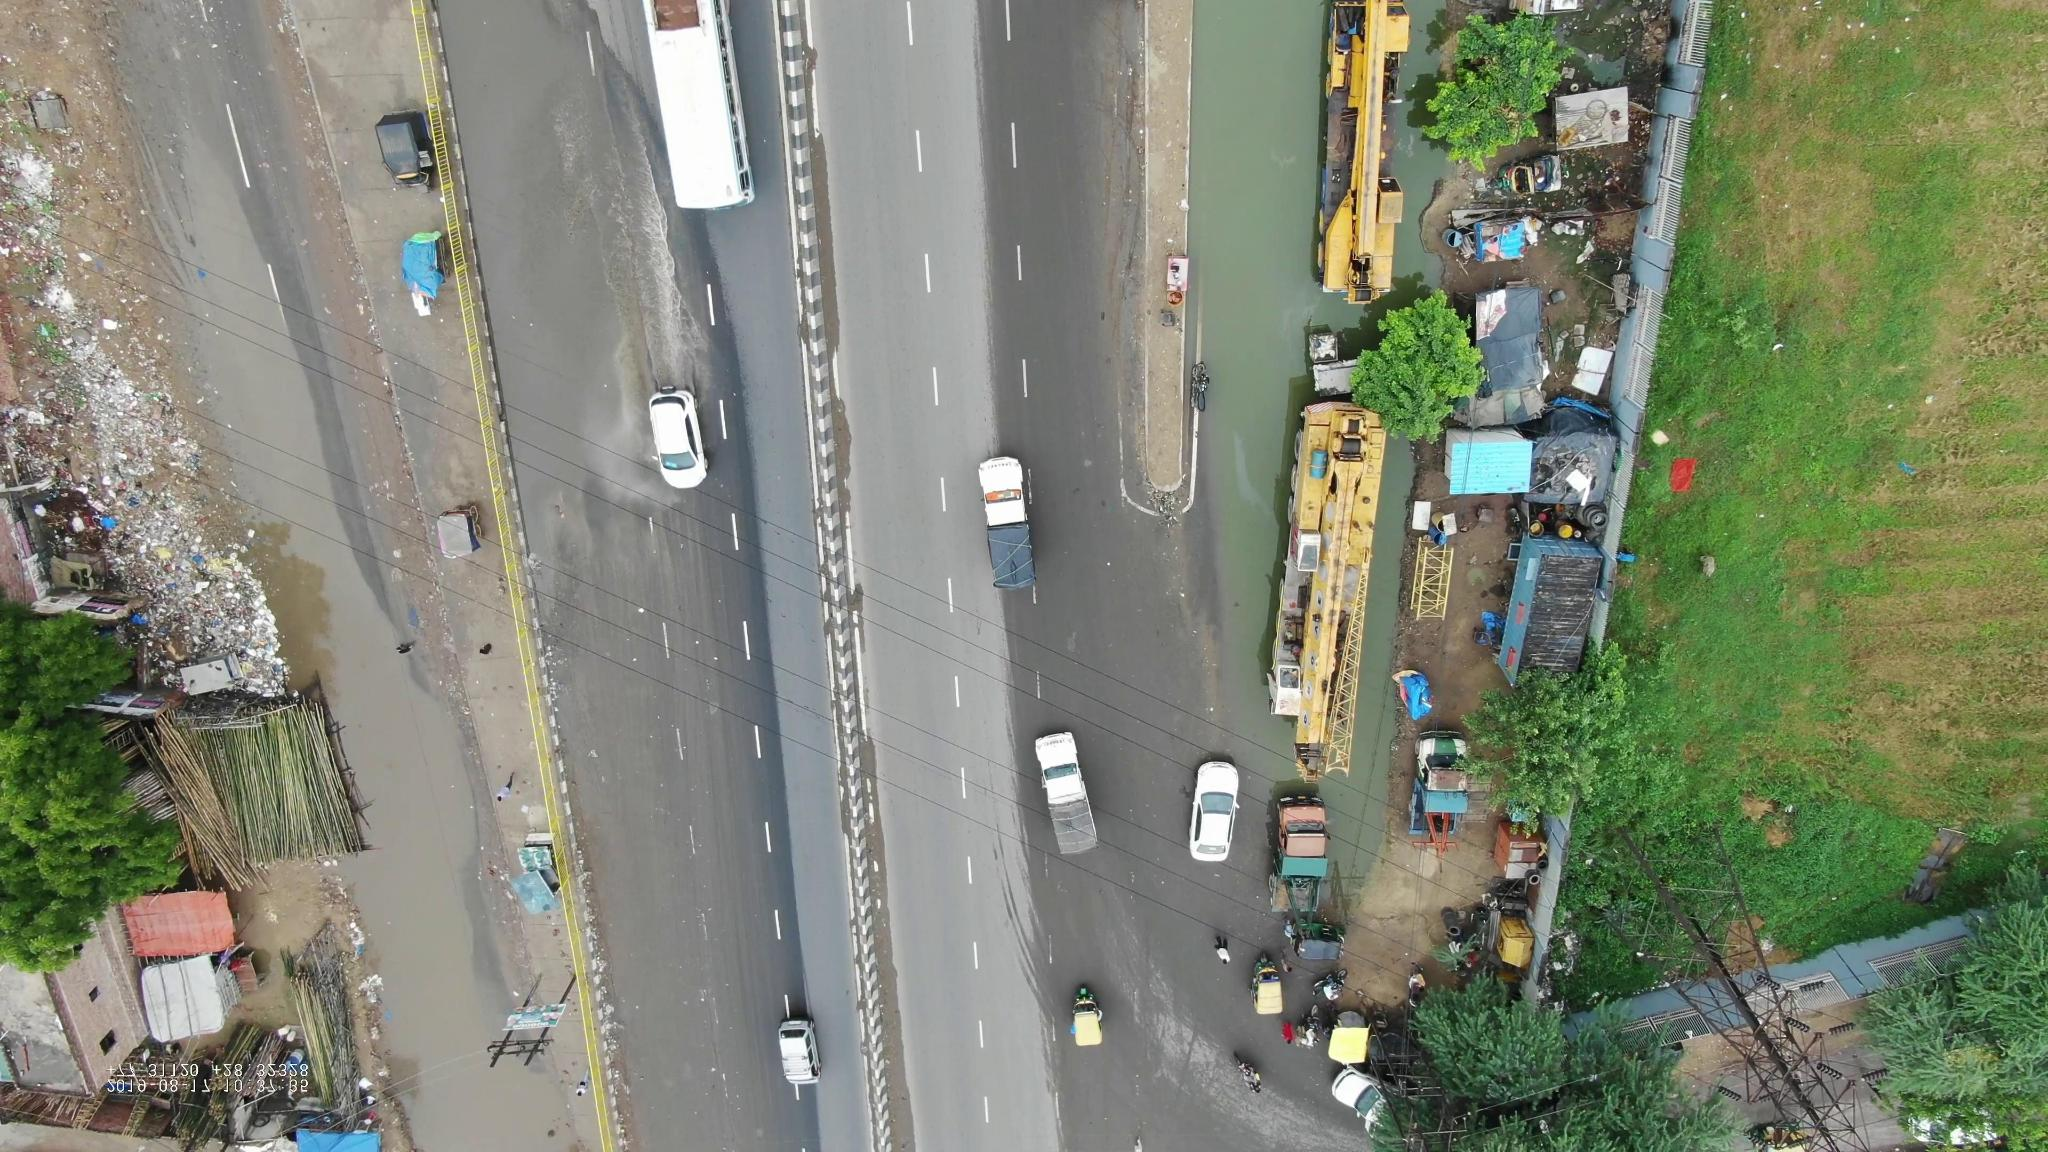Muddy_road: (1198, 8, 1431, 463), (1214, 481, 1415, 926), (1089, 37, 1151, 307)
Road_side_garbage: (21, 363, 262, 684)
Waterlogging: (436, 41, 688, 522), (359, 814, 560, 1138), (269, 488, 454, 800), (142, 184, 335, 470)
